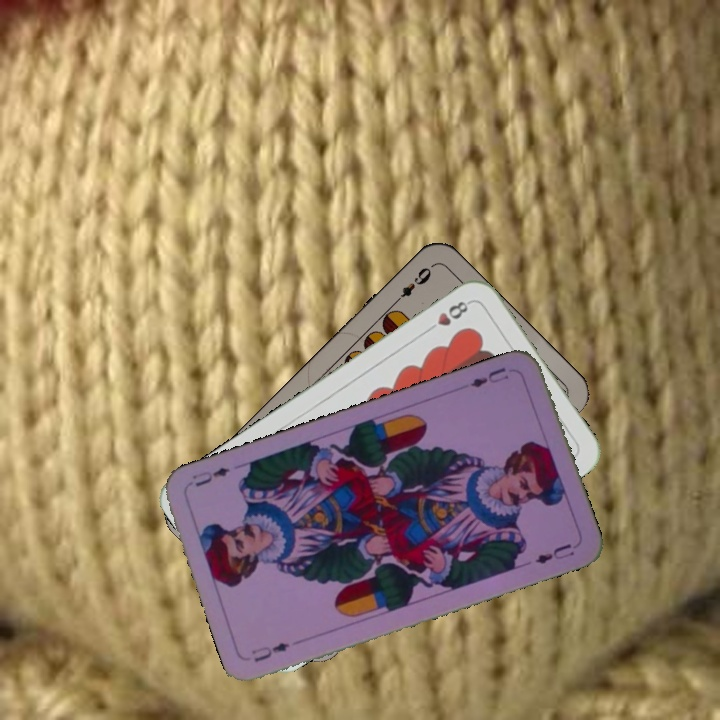E9: (389, 261, 435, 307)
EU: (247, 638, 292, 665), (466, 363, 509, 391)
H8: (422, 297, 474, 336)
